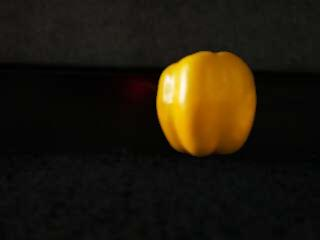Capsicum: (156, 48, 258, 159)
